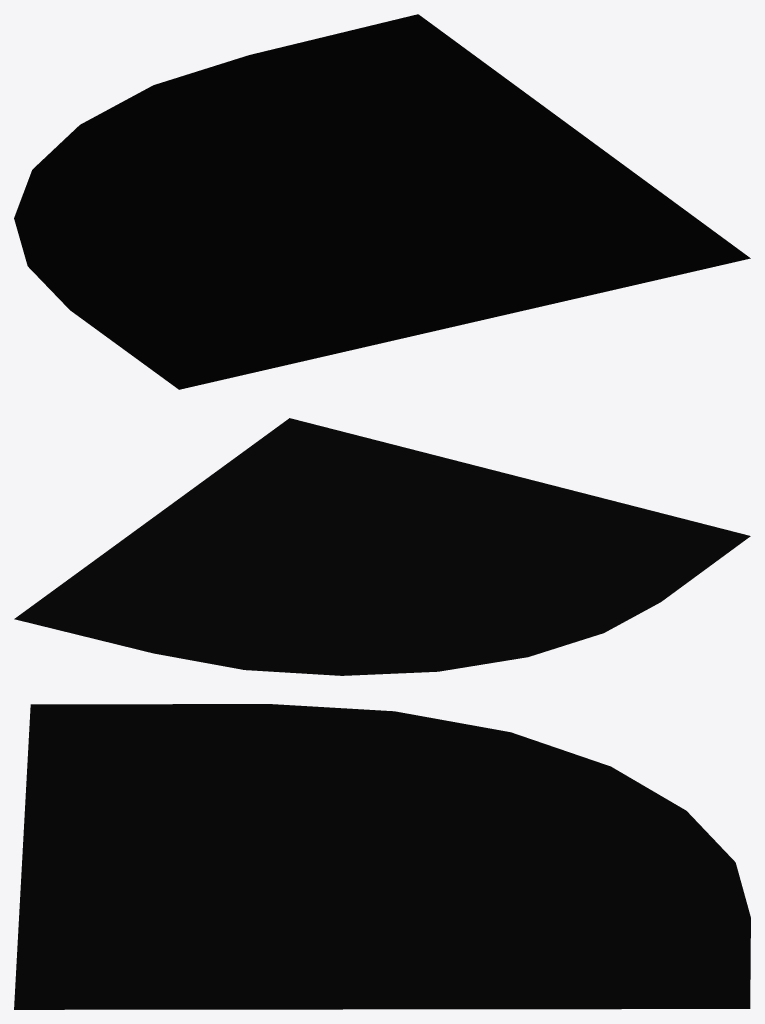
3 views of the same model, one above another, from view 1: azimuth 30°, elevation 25°; view 2: azimuth 150°, elevation 25°; view 3: azimuth 270°, elevation 25° (orthographic). The views are drawn at different scales.
Visible parts, largest first — view 1: Joint_0_Object_0; view 2: Joint_0_Object_0; view 3: Joint_0_Object_0.
Boxes of the visible parts, x1,y1,x2,y2 form: Joint_0_Object_0: (14,14,750,389); Joint_0_Object_0: (14,418,750,675); Joint_0_Object_0: (14,704,750,1009).
Bounding box in the file's own units: 1855 × 2.5 × 1895.
Materials: 1 (1 with a texture image).
